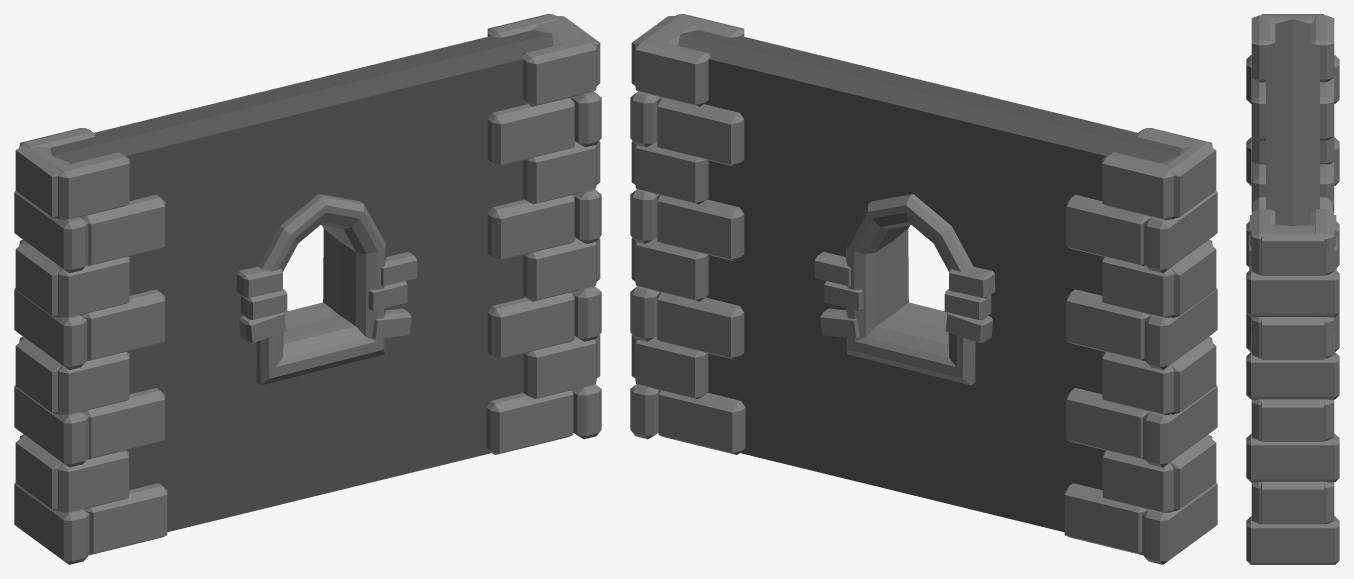
Rendered from DungeonWallWindow.fbx.
The picture shows the model from 3 angles, left to right: view 1: azimuth 30°, elevation 25°; view 2: azimuth 150°, elevation 25°; view 3: azimuth 270°, elevation 25°; orthographic projection. The views are drawn at different scales.
Parts seen in each view (by area): view 1: DungeonWallWindow; view 2: DungeonWallWindow; view 3: DungeonWallWindow.
Part boxes in pixels (<box>): DungeonWallWindow: <box>14,14,601,564</box>; DungeonWallWindow: <box>630,14,1217,564</box>; DungeonWallWindow: <box>1246,14,1339,564</box>.
Bounding box in the file's own units: 520 × 353 × 90.43.
Materials: 1 (1 with a texture image).
